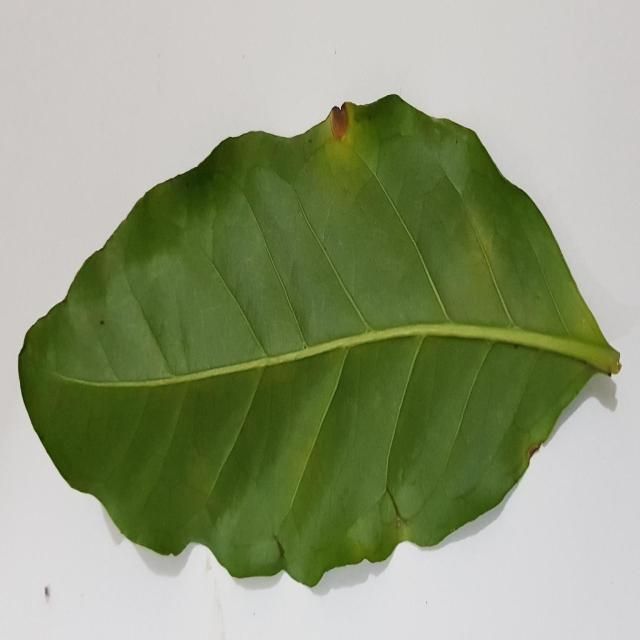Enfermedad-Mancha-de-hierro: (18, 96, 622, 589)
